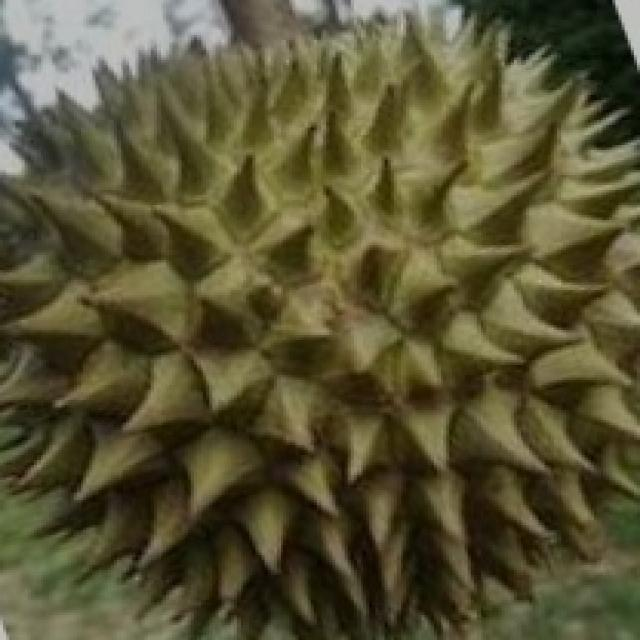fruit: (415, 340, 640, 638)
